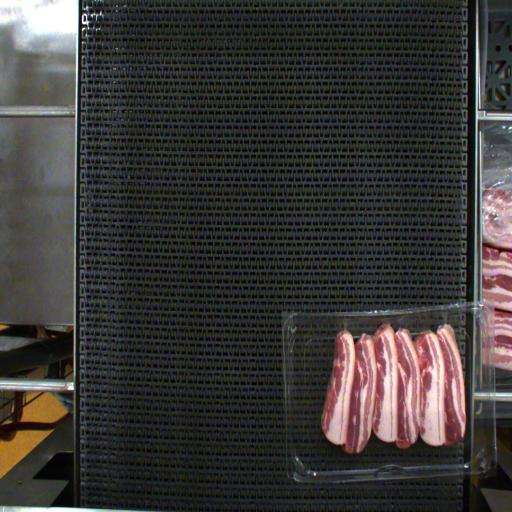packaging-error: (336, 309, 353, 334), (437, 307, 451, 329)
